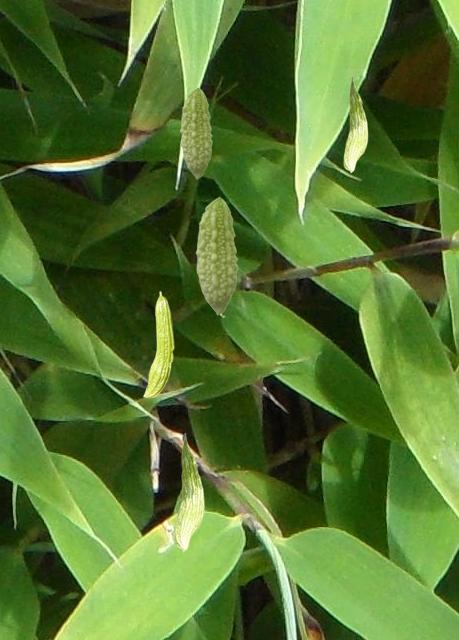ampalaya: (195, 196, 238, 315), (174, 432, 204, 552), (142, 290, 174, 398), (179, 86, 212, 179), (343, 75, 368, 173), (196, 245, 225, 318)
